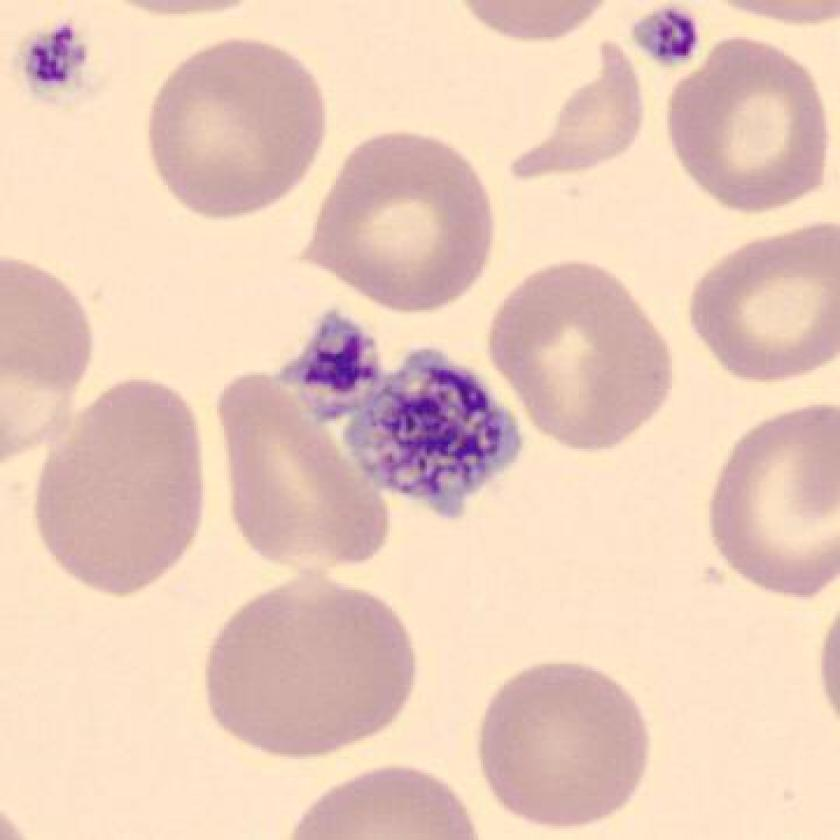platelets: (344, 346, 526, 529), (272, 304, 386, 420), (13, 15, 101, 105), (622, 1, 701, 68)
